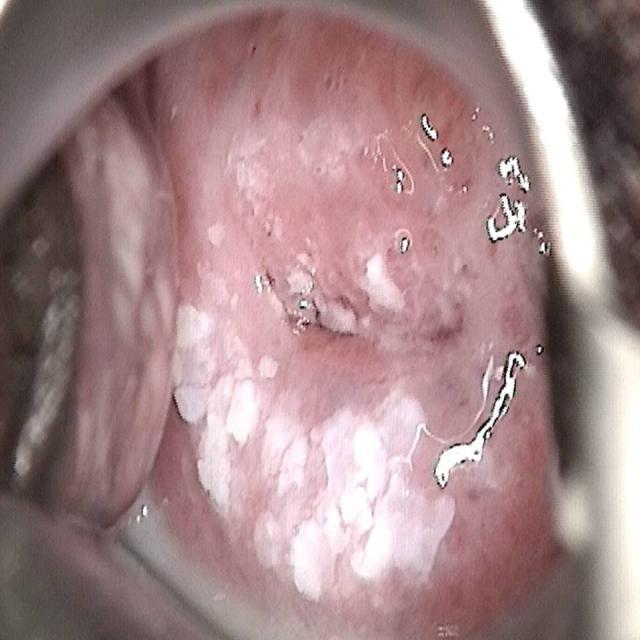cervical_lesion: (117, 53, 583, 640)
